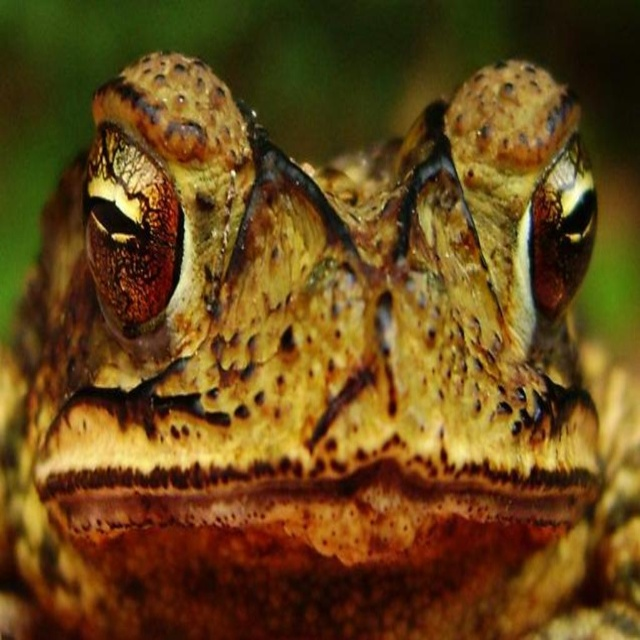Frog: (0, 53, 639, 638)
